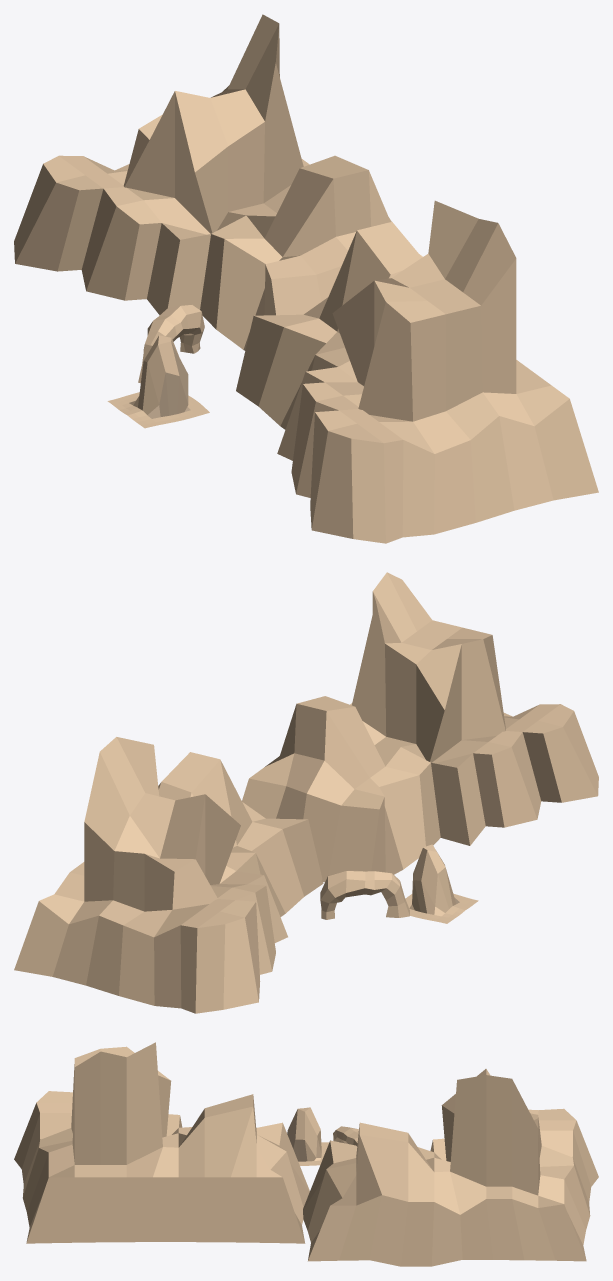
The model's file is mountainFeature.fbx.
3 views of the same model, one above another, from view 1: azimuth 30°, elevation 25°; view 2: azimuth 150°, elevation 25°; view 3: azimuth 270°, elevation 25° (orthographic). The views are drawn at different scales.
Parts seen in each view (by area): view 1: mountain1, mountain, desertRock2, desertFeature; view 2: mountain1, mountain, desertRock2, desertFeature; view 3: mountain1, mountain, desertRock2, desertFeature.
Boxes of the visible parts, <box> form: mountain1: <box>236,200,598,543</box>; mountain: <box>14,14,422,350</box>; desertRock2: <box>107,335,209,428</box>; desertFeature: <box>138,305,204,383</box>; mountain1: <box>242,572,598,882</box>; mountain: <box>14,737,323,1013</box>; desertRock2: <box>405,844,478,923</box>; desertFeature: <box>320,870,409,919</box>; mountain1: <box>14,1042,309,1243</box>; mountain: <box>303,1069,598,1266</box>; desertRock2: <box>287,1107,329,1165</box>; desertFeature: <box>333,1126,358,1146</box>.
Bounding box in the file's own units: 91.66 × 66.63 × 195.
